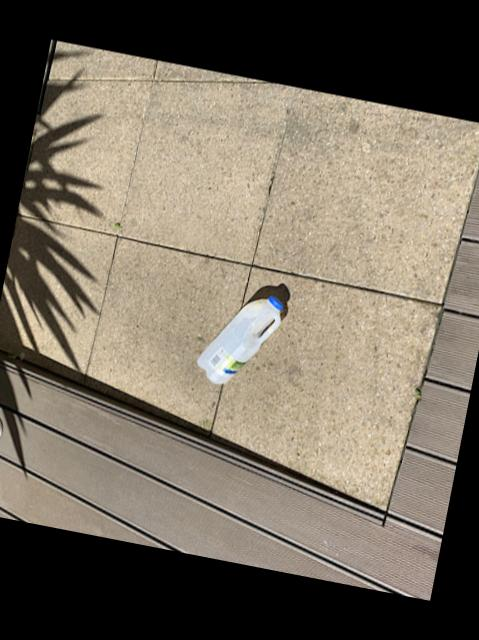plastic: (195, 295, 280, 382)
